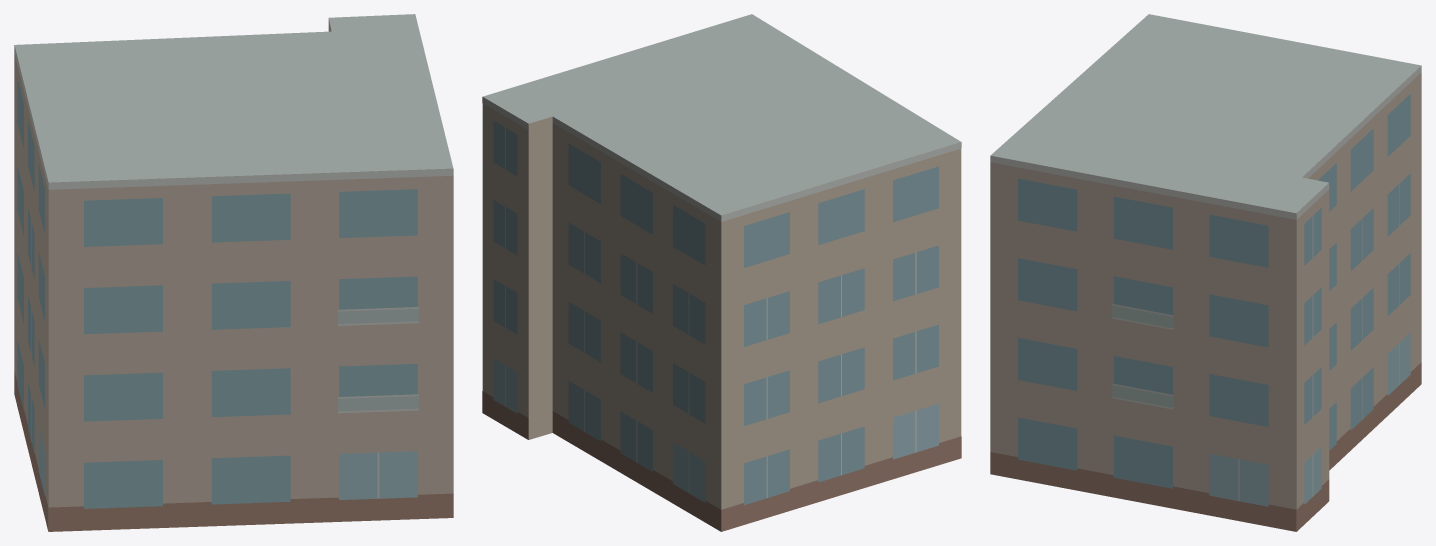
File: survey-upis-32669152.glb
3 renders of one model, left to right at view 1: azimuth 30°, elevation 25°; view 2: azimuth 150°, elevation 25°; view 3: azimuth 270°, elevation 25°, orthographic. The views are drawn at different scales.
Visible parts, largest first — view 1: survey-upis-32669152.tmp; view 2: survey-upis-32669152.tmp; view 3: survey-upis-32669152.tmp.
Boxes of the visible parts, bbox=[...] form: survey-upis-32669152.tmp: bbox=[14, 14, 453, 531]; survey-upis-32669152.tmp: bbox=[482, 14, 961, 531]; survey-upis-32669152.tmp: bbox=[990, 14, 1421, 531].
Size of the model in its own units: 15.84 by 11.8 by 14.49.
